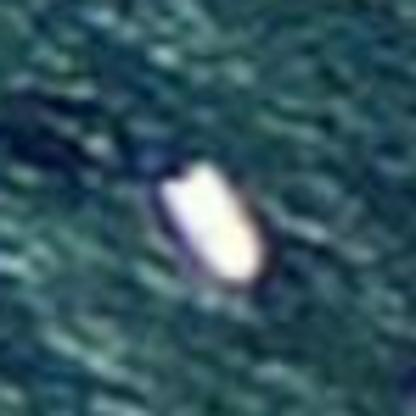ship: (144, 144, 283, 295)
